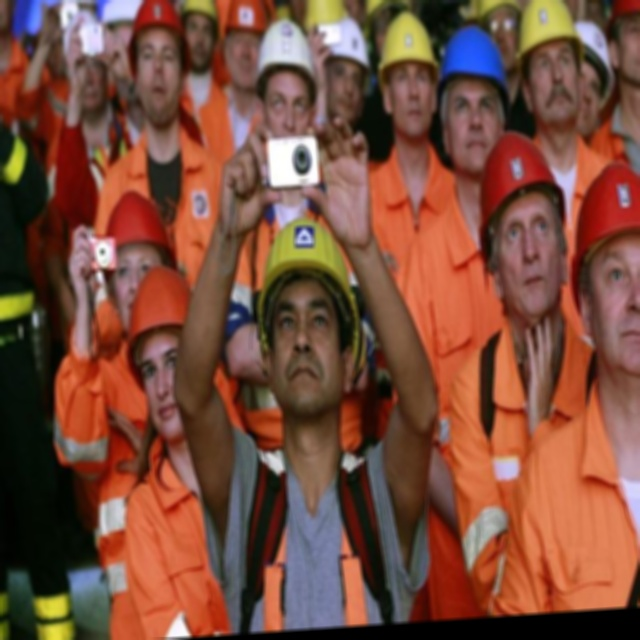Con_Casco: (475, 129, 574, 328), (566, 164, 640, 385)
